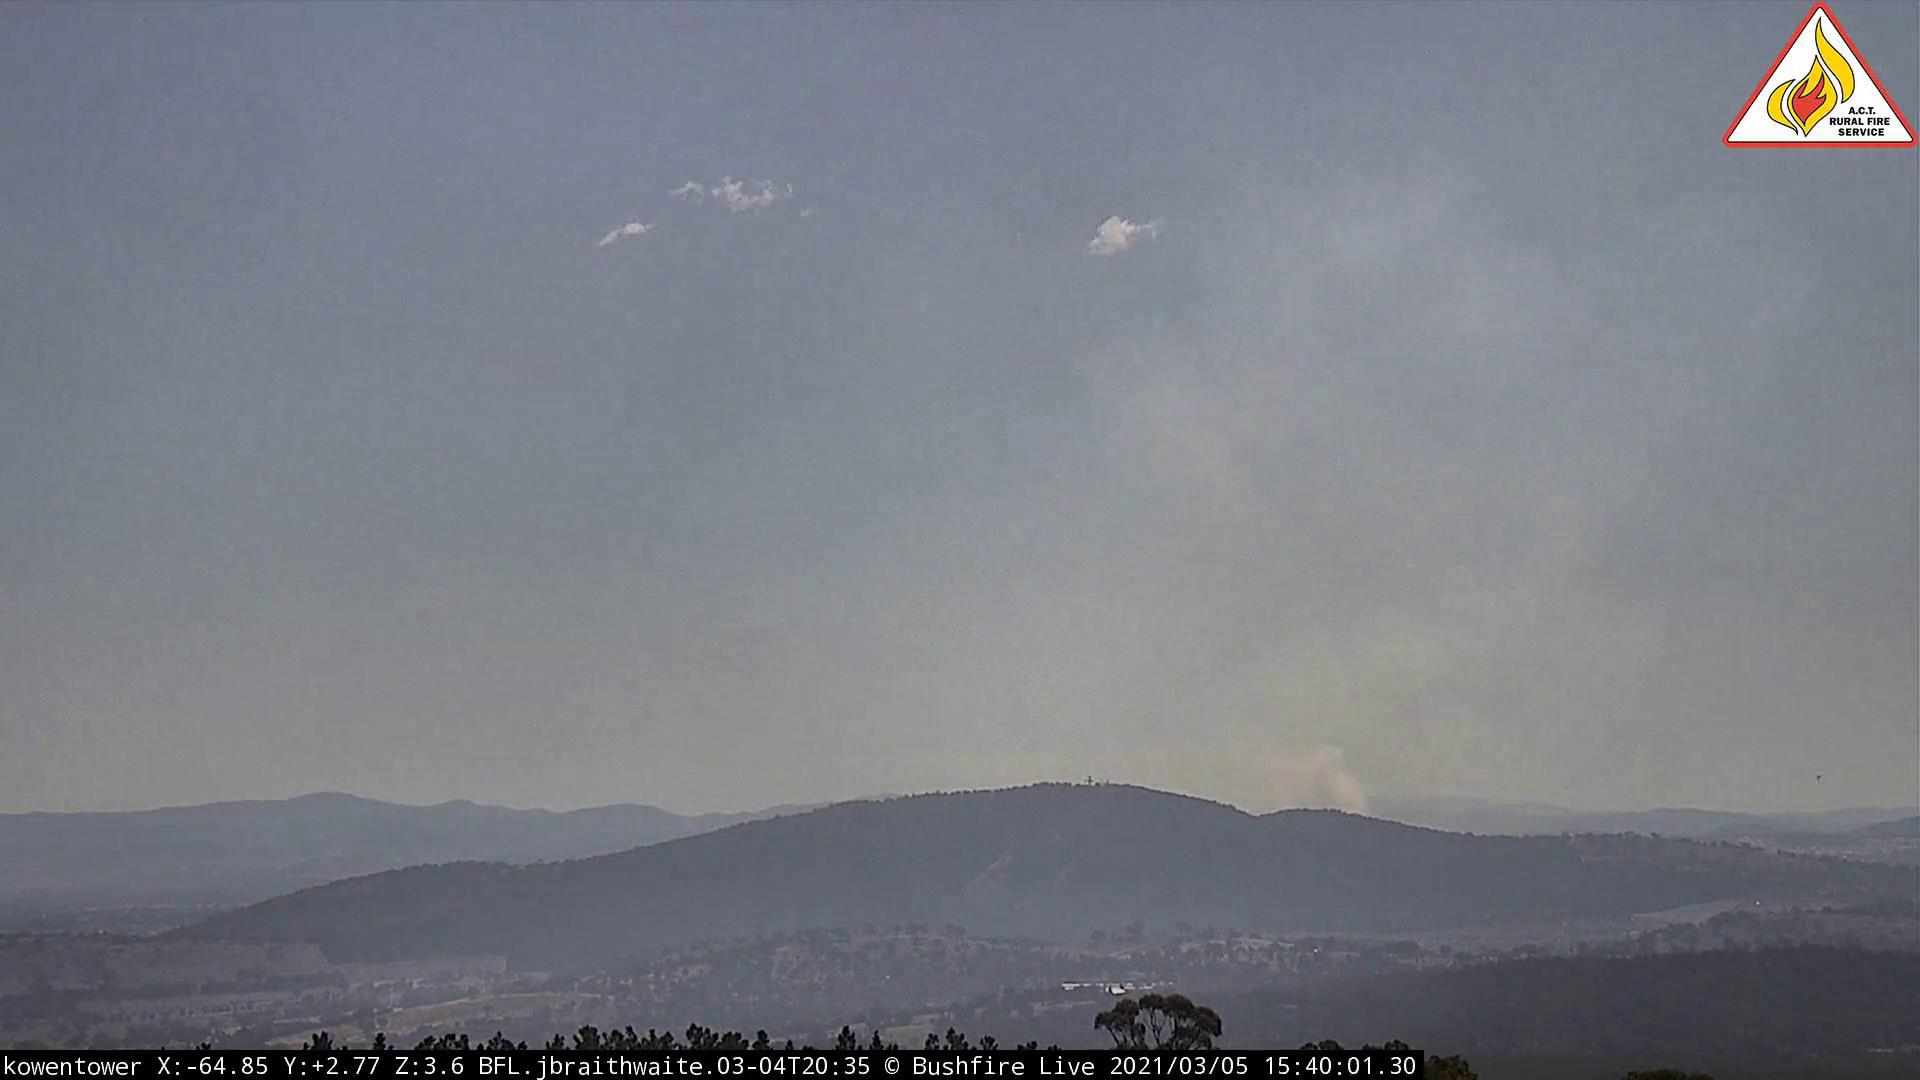Smoke: (905, 195, 1818, 844)
